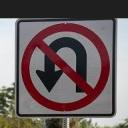NoVirarU: (22, 24, 110, 112)
